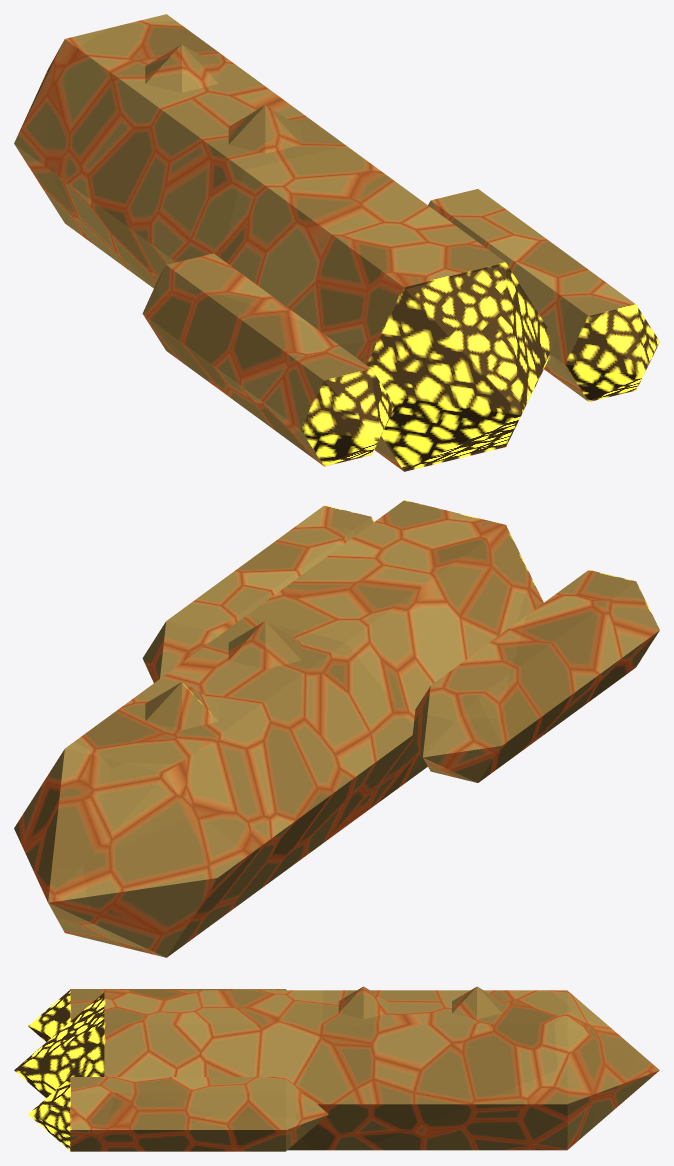
File: vraygon_light_cruiser.glb
3 views of the same model, one above another, from view 1: azimuth 30°, elevation 25°; view 2: azimuth 150°, elevation 25°; view 3: azimuth 270°, elevation 25° (orthographic). The views are drawn at different scales.
Visible parts, largest first — view 1: VraygonLightCruiser; view 2: VraygonLightCruiser; view 3: VraygonLightCruiser.
Boxes of the visible parts, x1,y1,x2,y2 form: VraygonLightCruiser: (14,14,659,471); VraygonLightCruiser: (14,500,659,957); VraygonLightCruiser: (14,986,659,1151).
Bounding box in the file's own units: 20.38 × 11.66 × 46.5.
Materials: 1 (1 with a texture image).
